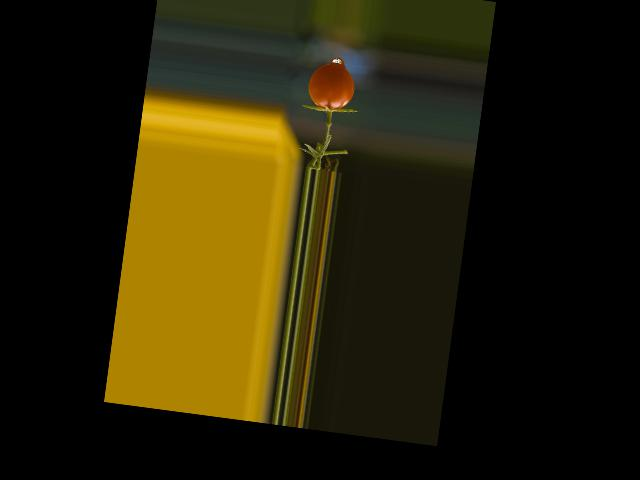tomato: (306, 61, 357, 112)
